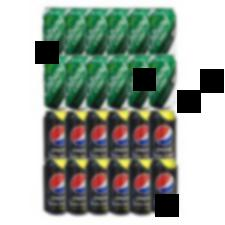pepsi_zero: (151, 159, 180, 216), (150, 109, 177, 158), (131, 158, 153, 215), (109, 158, 130, 215), (88, 159, 109, 215), (107, 108, 129, 157), (87, 108, 108, 158), (129, 108, 149, 158)
